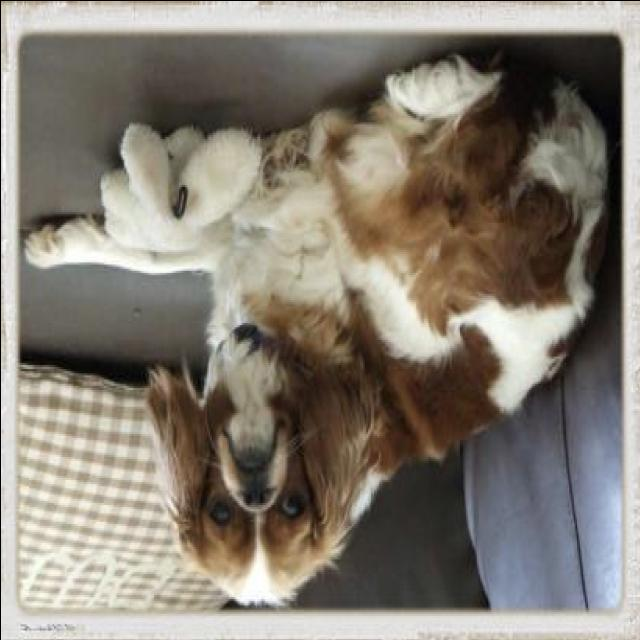blenheim_spaniel: (19, 42, 623, 611)
